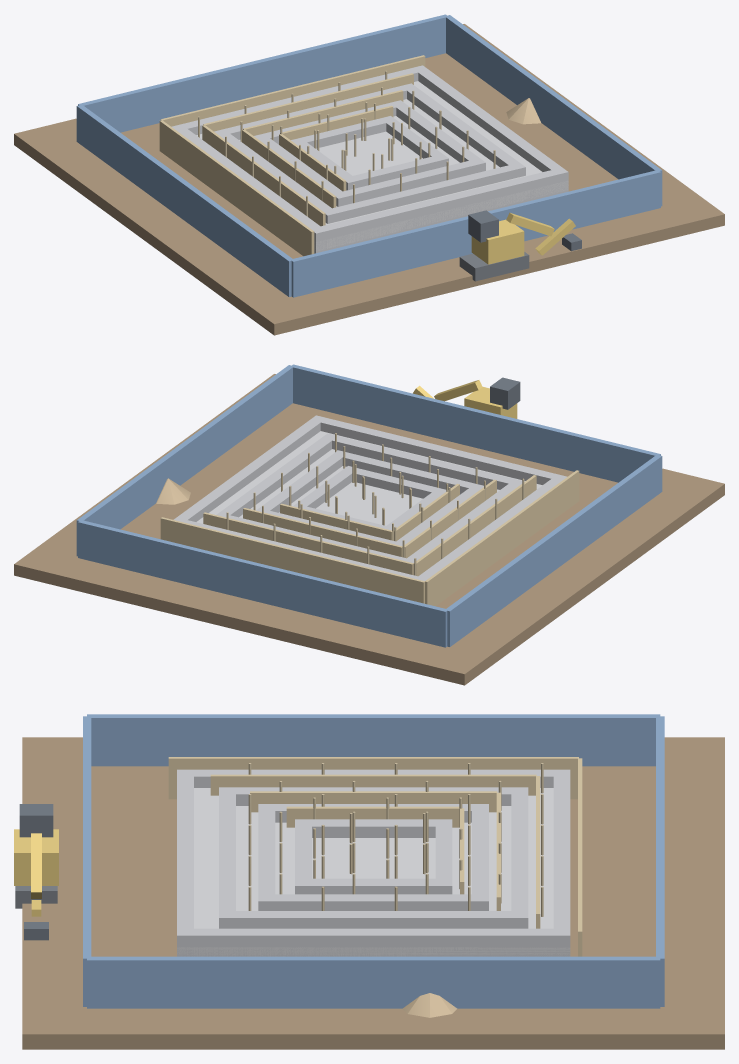
Rendered from num-s-site.glb.
3 views of the same model, one above another, from view 1: azimuth 30°, elevation 25°; view 2: azimuth 150°, elevation 25°; view 3: azimuth 270°, elevation 25° (orthographic). The views are drawn at different scales.
Size of the model in its own units: 25 by 3.4 by 25.3.
